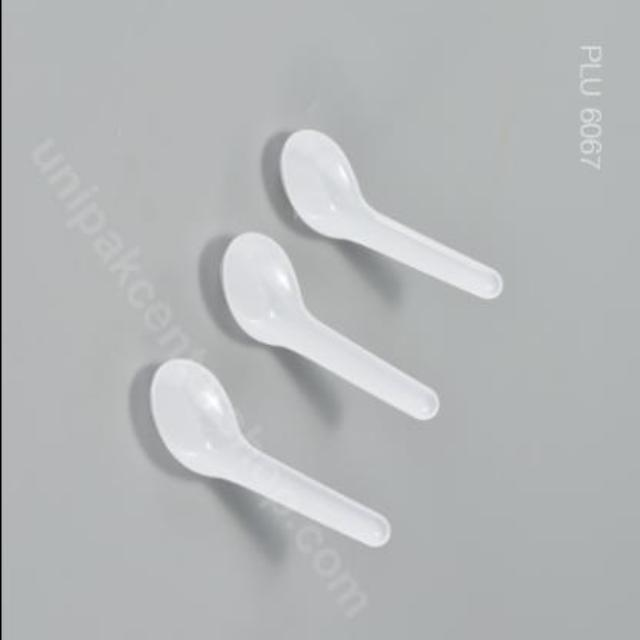plastic_cultery: (146, 127, 498, 548)
